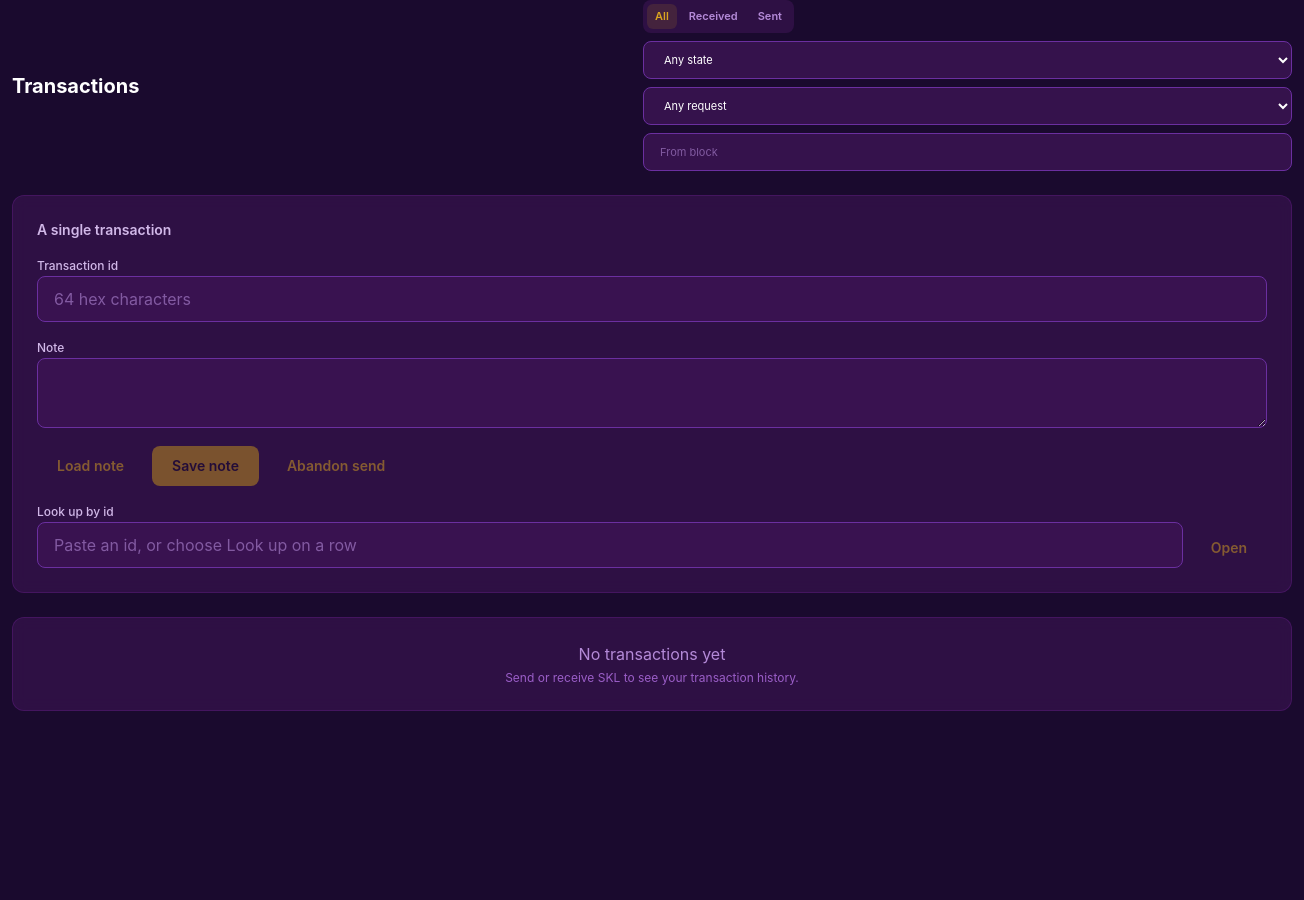
Test case: Transactions › an empty result under only the request filter or the from-block watermark is a miss, not an empty wallet
Expected: the text "No transactions yet" is shown, top-left (579, 644), bottom-right (725, 664)
Select "Paid a request" in the dropdown named "Request" at coordinates (968, 106), box top-left (643, 86), bottom-right (1292, 124)
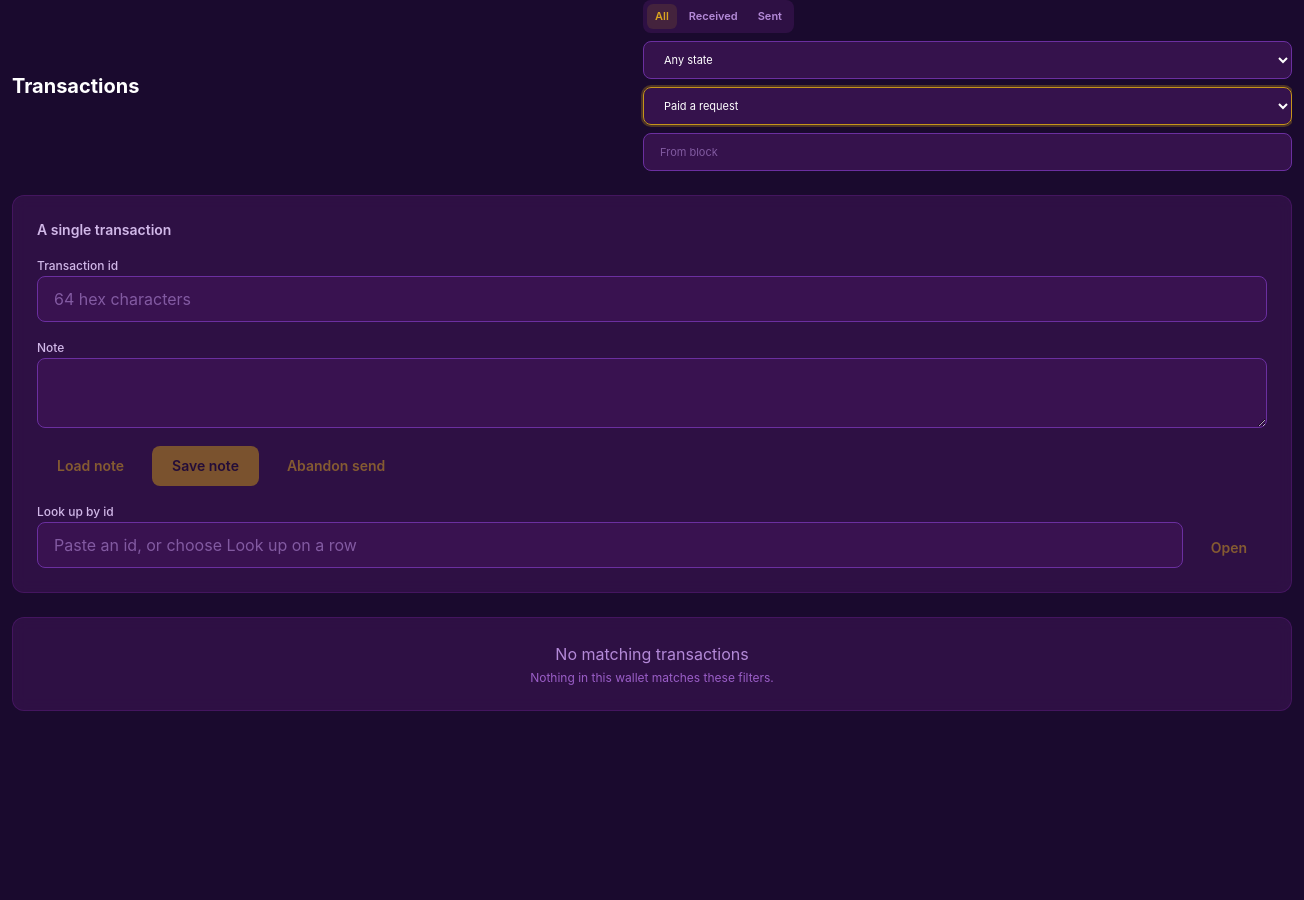
Now the text "No matching transactions" is shown, box top-left (555, 644), bottom-right (749, 664)
Select "Any request" in the dropdown named "Request" at coordinates (968, 106), box top-left (643, 86), bottom-right (1292, 124)
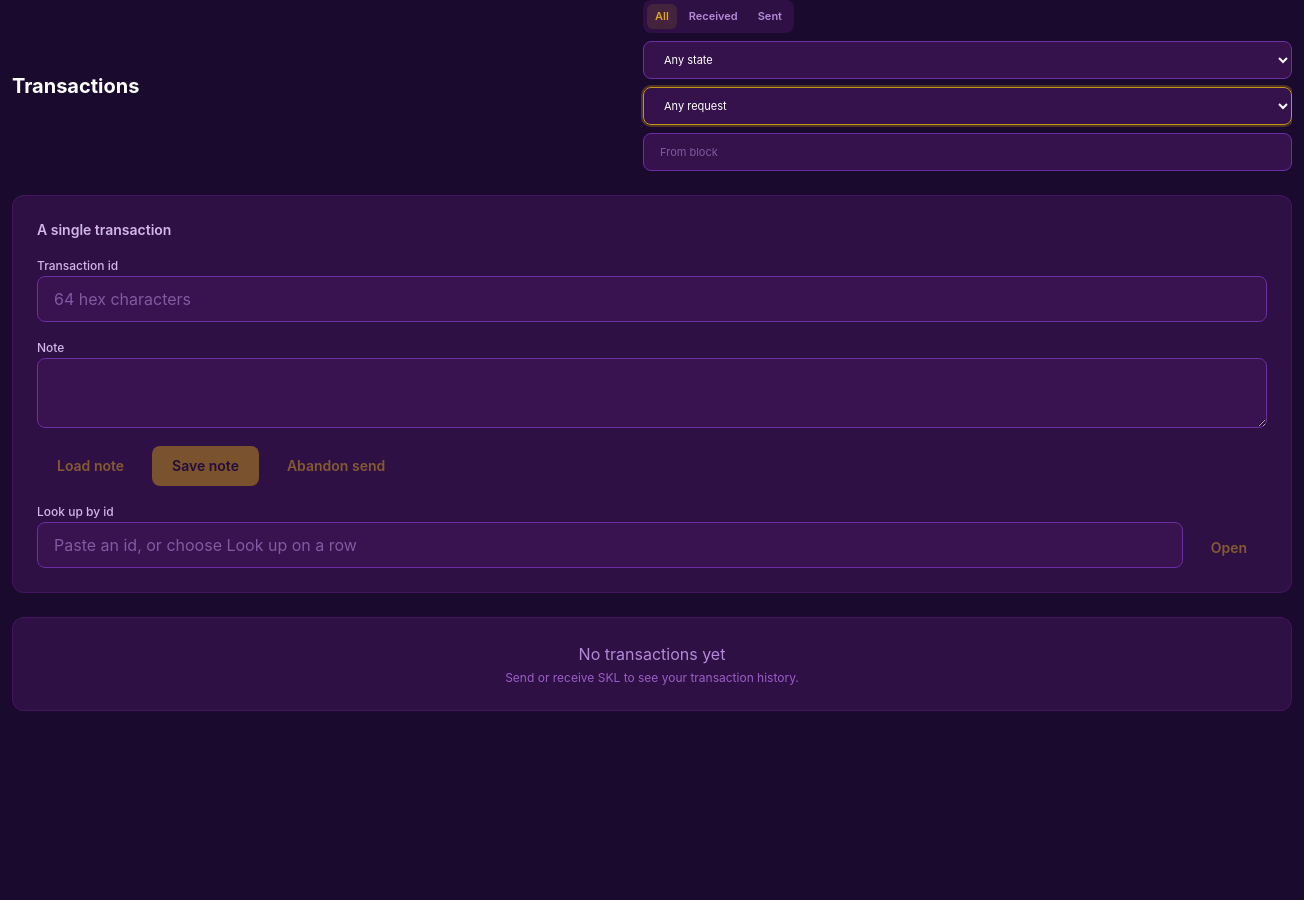
Now the text "No transactions yet" is shown, box top-left (579, 644), bottom-right (725, 664)
Type "5" into the field labelled "From block" at coordinates (968, 152), box top-left (643, 132), bottom-right (1292, 171)
Then press Enter
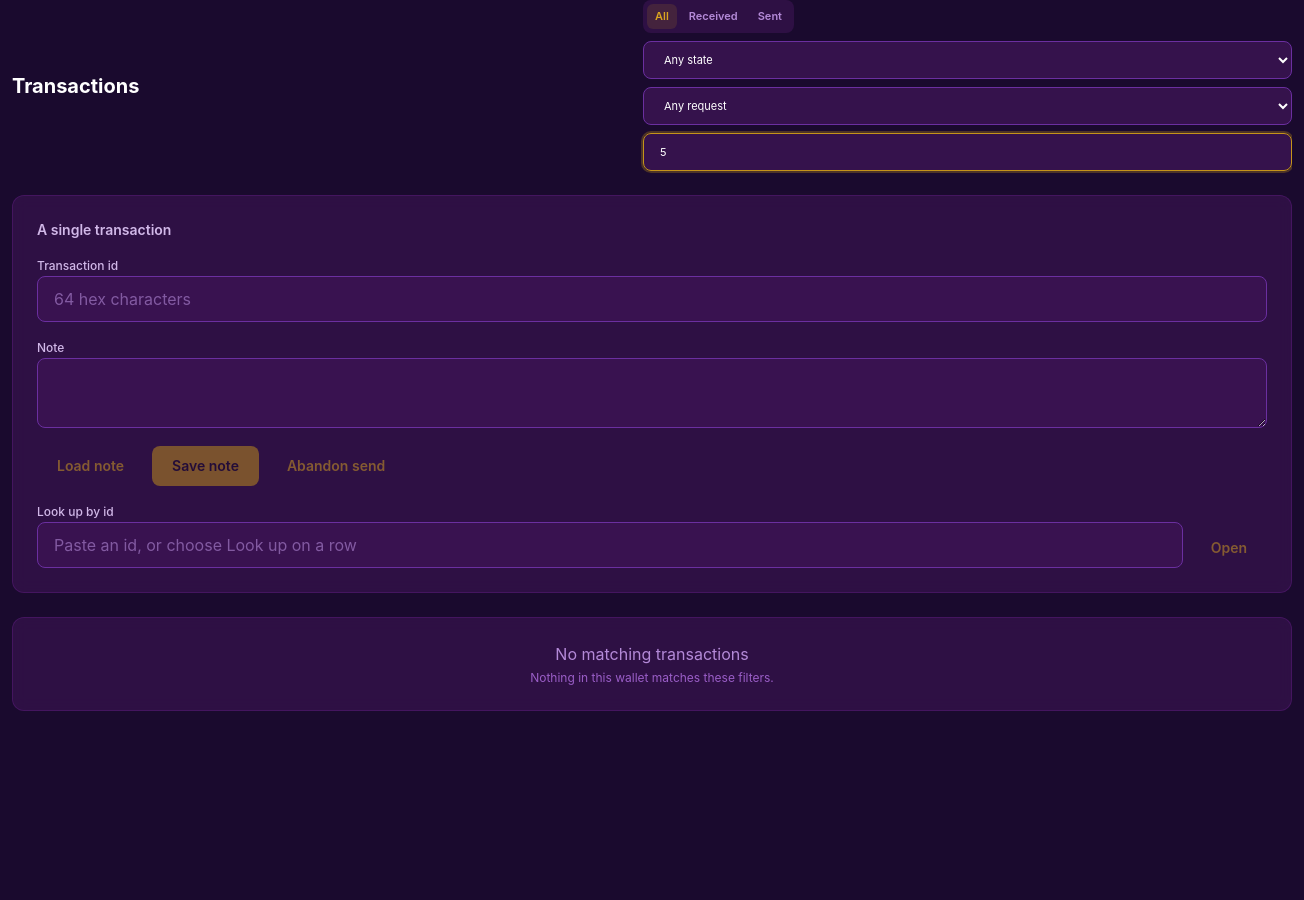
Now the text "No matching transactions" is shown, box top-left (555, 644), bottom-right (749, 664)
